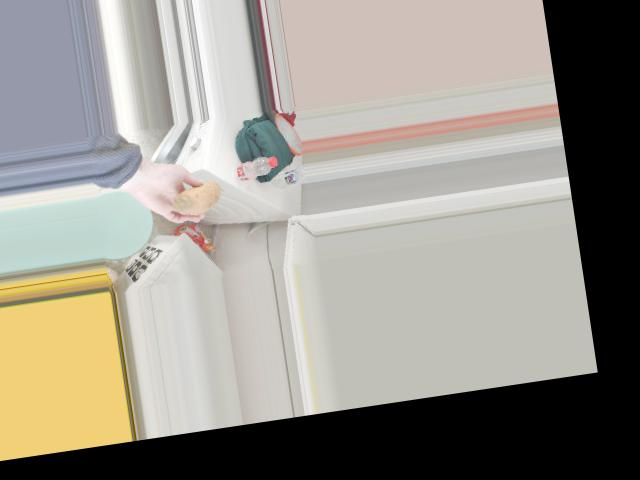sweet_potato: (164, 183, 225, 216)
